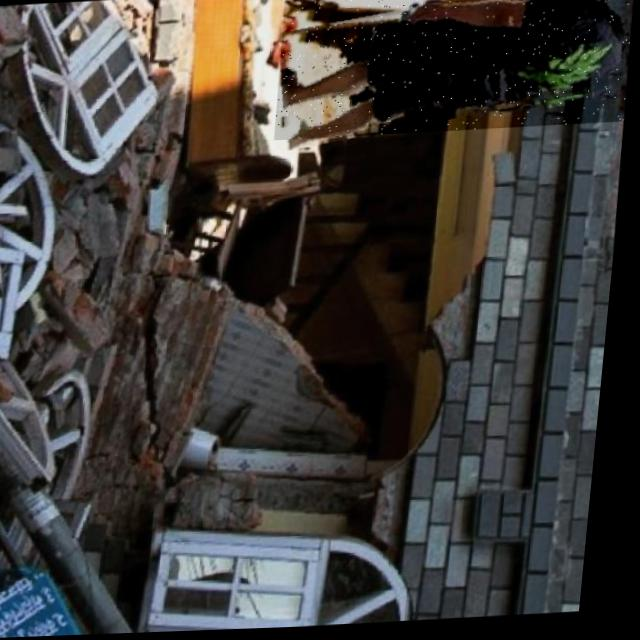Person in Rubble: (274, 0, 637, 142)
